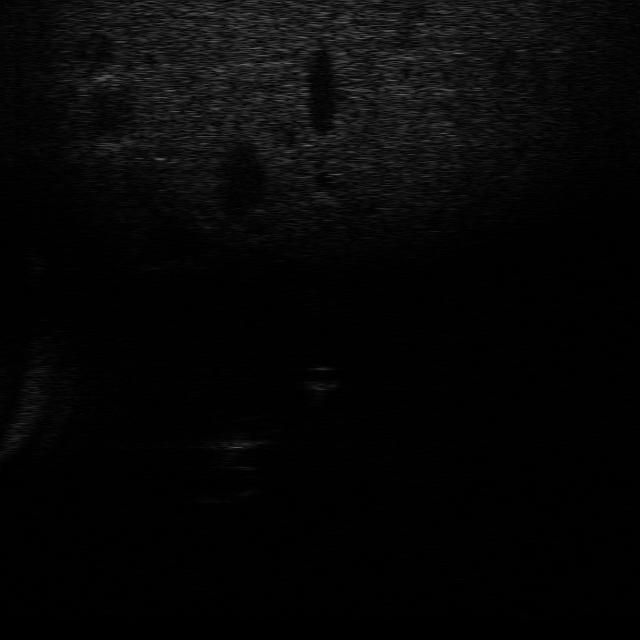ball: (295, 357, 346, 393)
square cage: (195, 418, 281, 456)
tyre: (182, 458, 262, 506)
